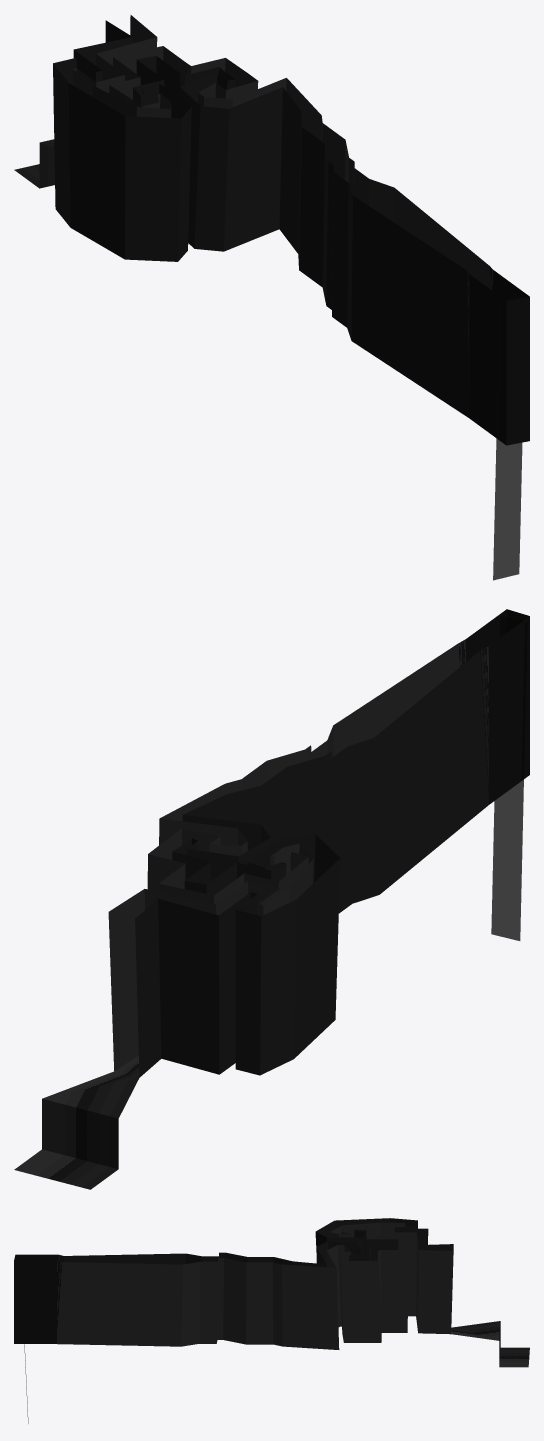
The model's file is Map.glb.
3 renders of one model, top to bottom at view 1: azimuth 30°, elevation 25°; view 2: azimuth 150°, elevation 25°; view 3: azimuth 270°, elevation 25°, orthographic. The views are drawn at different scales.
Parts seen in each view (by area): view 1: Cube, Plane; view 2: Cube, Plane; view 3: Cube.
Boxes of the visible parts, x1,y1,x2,y2 form: Cube: (14,15,529,445); Plane: (493,294,524,580); Cube: (14,609,529,1189); Plane: (491,616,527,940); Cube: (14,1218,529,1367).
Size of the model in its own units: 74.77 by 123 by 338.
Materials: 2 (1 with a texture image).
